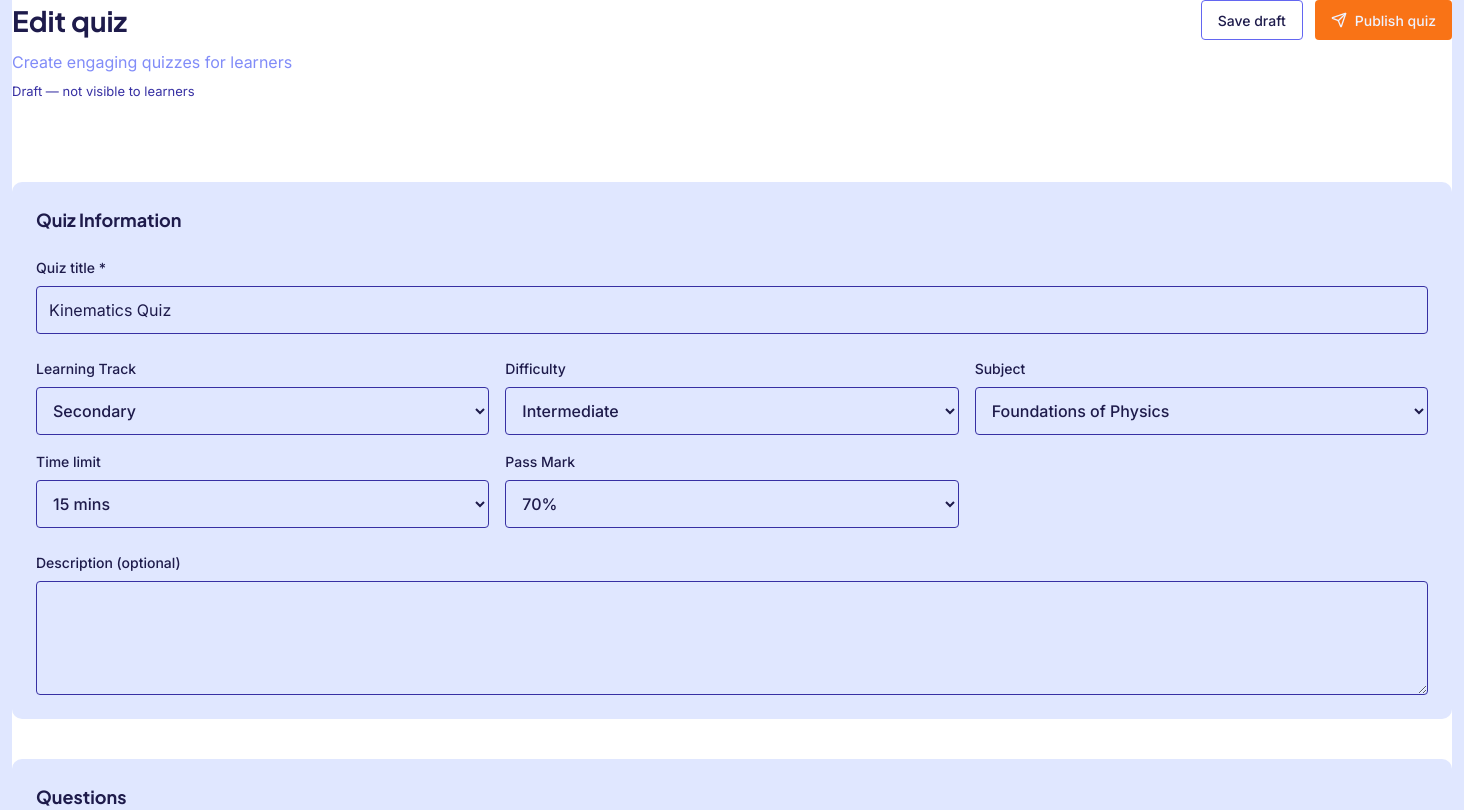
Test: QuizBuilder — editing › enables Discard changes only once something has changed, and restores the saved quiz
The width and height of the screenshot is (1464, 810).
Replace the text in the field labelled "Quiz title *" with "Something else": (732, 310) [36,286,1428,334]
(page scrolled)
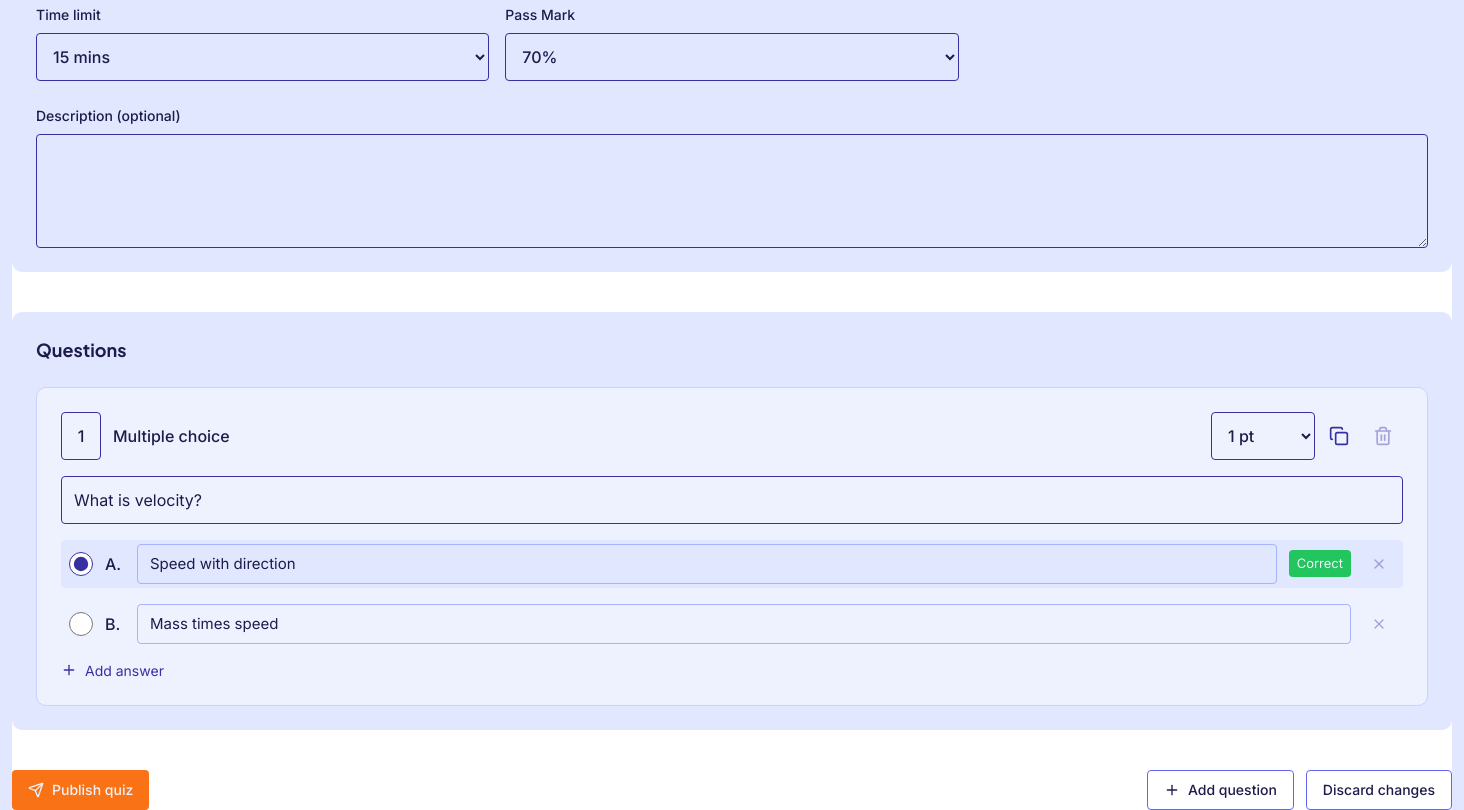
Check: the button "Discard changes" is enabled
Click the button "Discard changes": (1379, 790) [1306,770,1452,809]
(page scrolled)
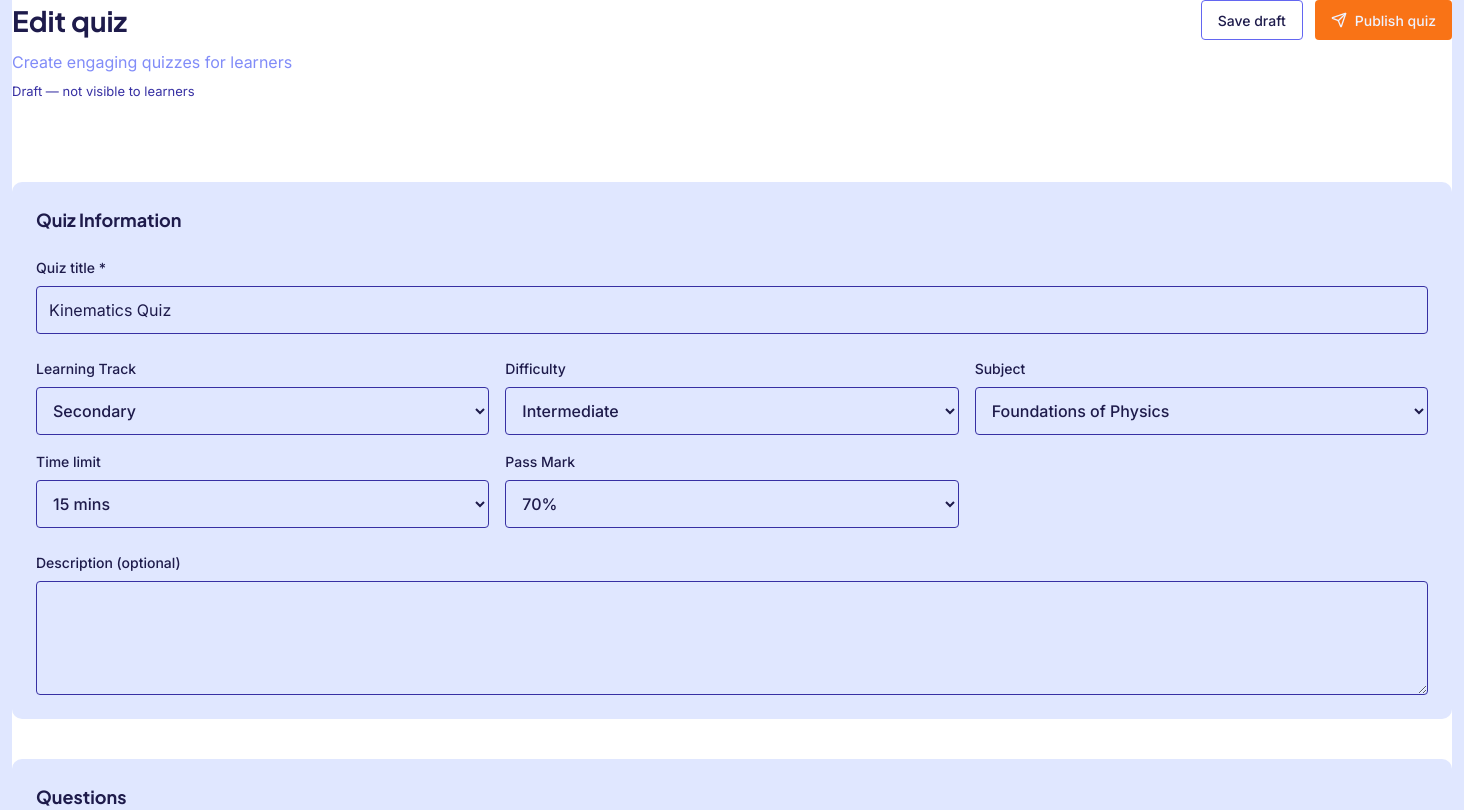
Check: the field labelled "Quiz title *" holds "Kinematics Quiz", box [36,286,1428,334]
